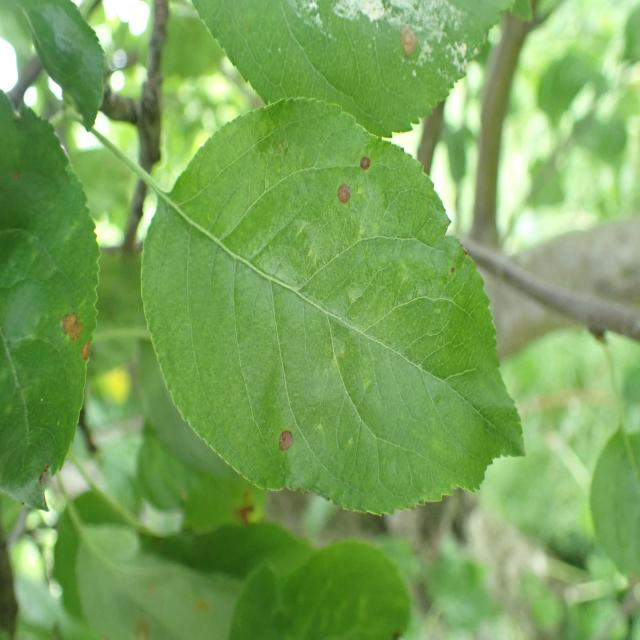Black Rot: (322, 179, 365, 227), (394, 19, 424, 85), (265, 424, 309, 467), (356, 144, 387, 194), (45, 303, 84, 342), (72, 336, 100, 373)
